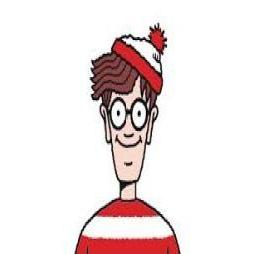waldos: (71, 26, 180, 254)
